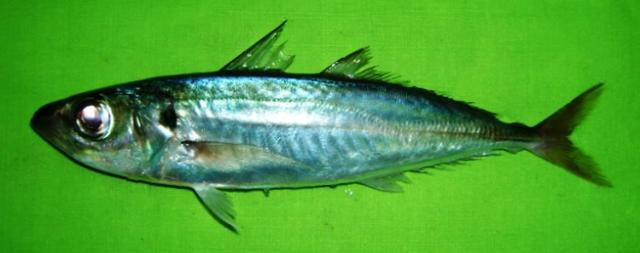Mulut: (22, 94, 84, 168)
Sirip Anal: (364, 150, 504, 206)
Sirip Dada: (180, 130, 312, 182)
Sirip Ekor: (532, 74, 618, 202)
Sirip Perut: (184, 179, 250, 239)
Sirip Punggung: (221, 14, 433, 104)
